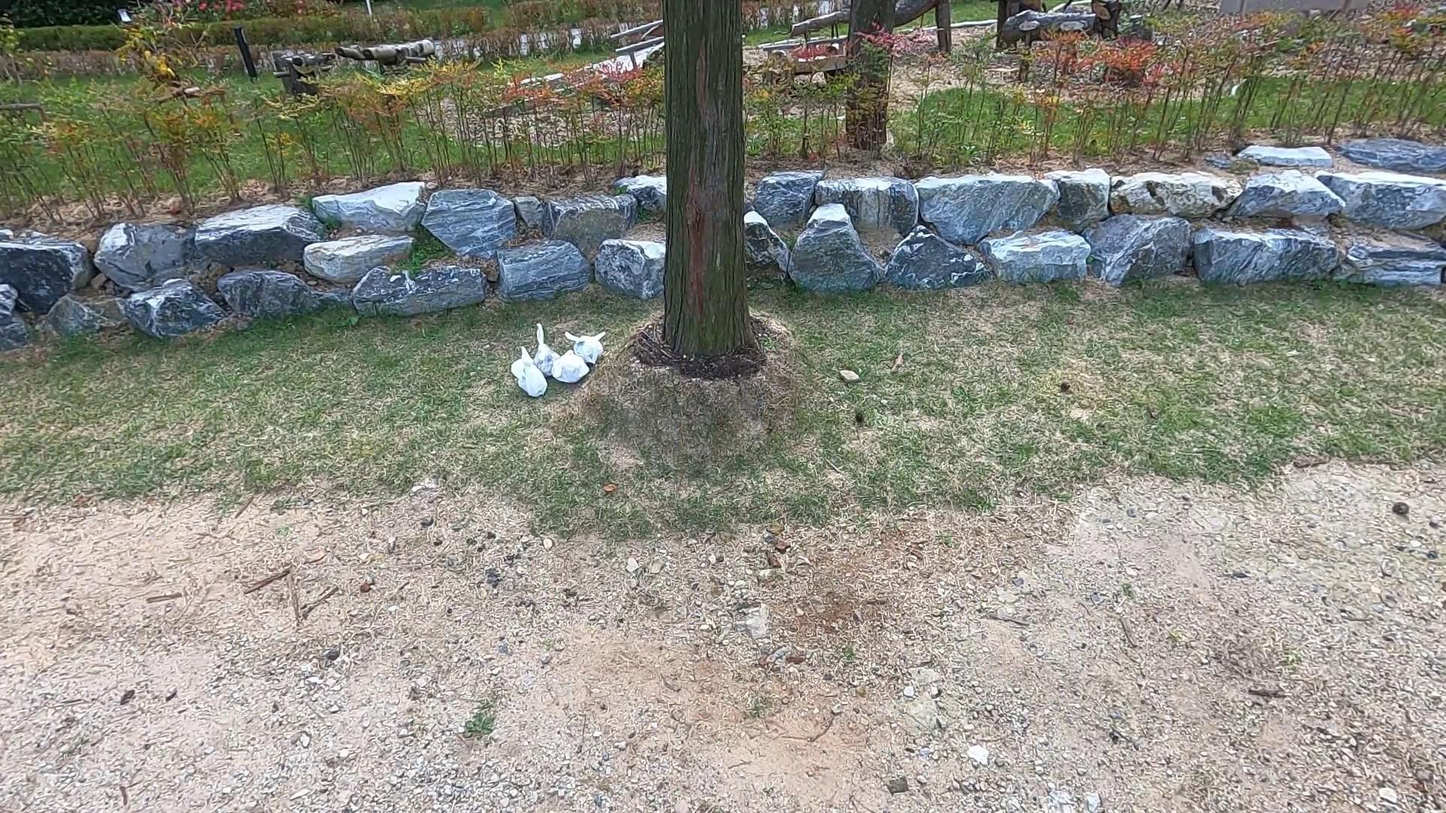trash: (527, 324, 563, 377), (550, 349, 592, 383), (565, 331, 611, 362), (516, 353, 546, 394), (511, 347, 533, 386)
